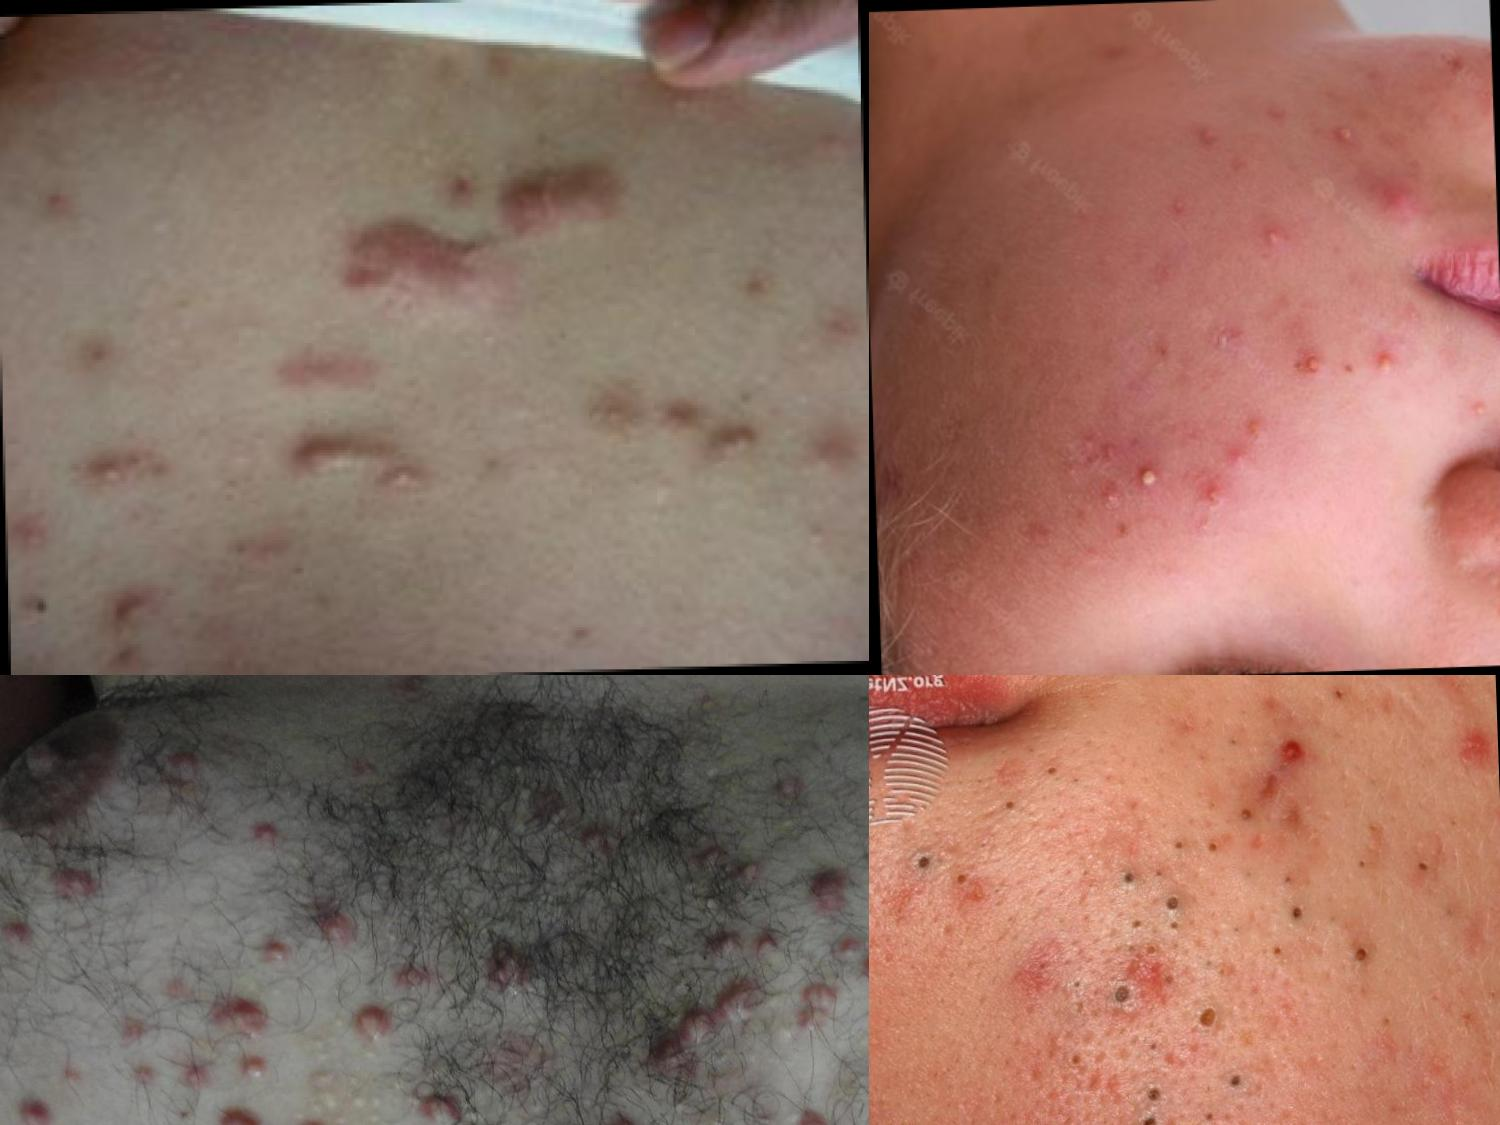blackhead: (89, 559, 177, 672), (1115, 852, 1192, 926), (1165, 830, 1253, 861), (1219, 1056, 1277, 1101), (1332, 924, 1377, 973), (1089, 971, 1143, 1010), (1136, 1082, 1183, 1125), (901, 845, 956, 877), (1313, 677, 1365, 710), (1283, 889, 1312, 939), (956, 861, 987, 906), (1341, 851, 1383, 883), (1193, 991, 1225, 1028), (1409, 845, 1440, 882), (1044, 753, 1069, 787), (1009, 787, 1032, 822)
keloid: (328, 213, 494, 326), (633, 973, 772, 1098), (493, 149, 634, 243), (246, 902, 370, 974), (274, 433, 389, 477), (405, 1080, 515, 1125), (203, 990, 286, 1046), (43, 858, 110, 909), (789, 981, 841, 1043), (824, 923, 870, 993), (6, 1082, 71, 1125), (209, 1094, 296, 1125), (354, 999, 405, 1049), (787, 1103, 857, 1125)
papular: (1364, 157, 1435, 238), (1453, 715, 1494, 791), (1269, 726, 1320, 778), (1209, 428, 1267, 474)
purulent: (702, 421, 772, 475), (81, 447, 145, 500), (1359, 334, 1411, 386), (1127, 450, 1174, 505), (1319, 112, 1372, 157), (1281, 333, 1338, 375), (1256, 217, 1290, 259)
whitehead: (1090, 427, 1141, 477), (1454, 385, 1496, 444), (1191, 474, 1237, 528), (1398, 485, 1459, 524), (1204, 319, 1251, 363), (1156, 186, 1205, 226), (1186, 116, 1228, 160), (1090, 479, 1131, 521), (1059, 447, 1091, 490), (1444, 535, 1475, 579)
